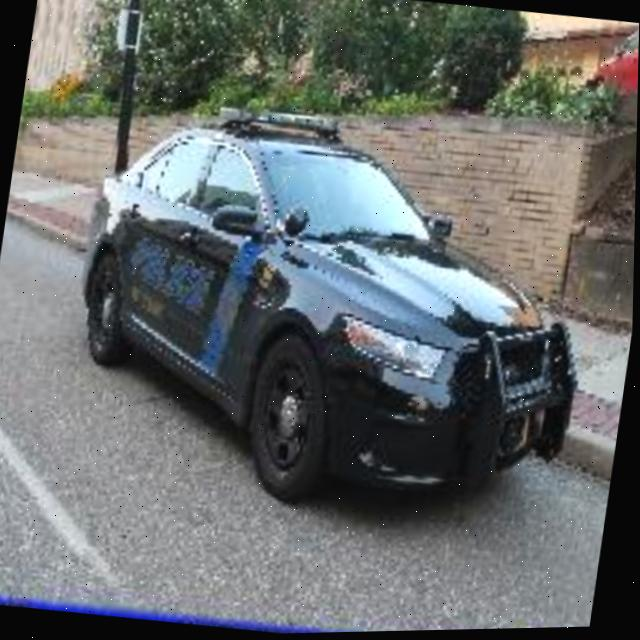emergency: (45, 79, 616, 546)
